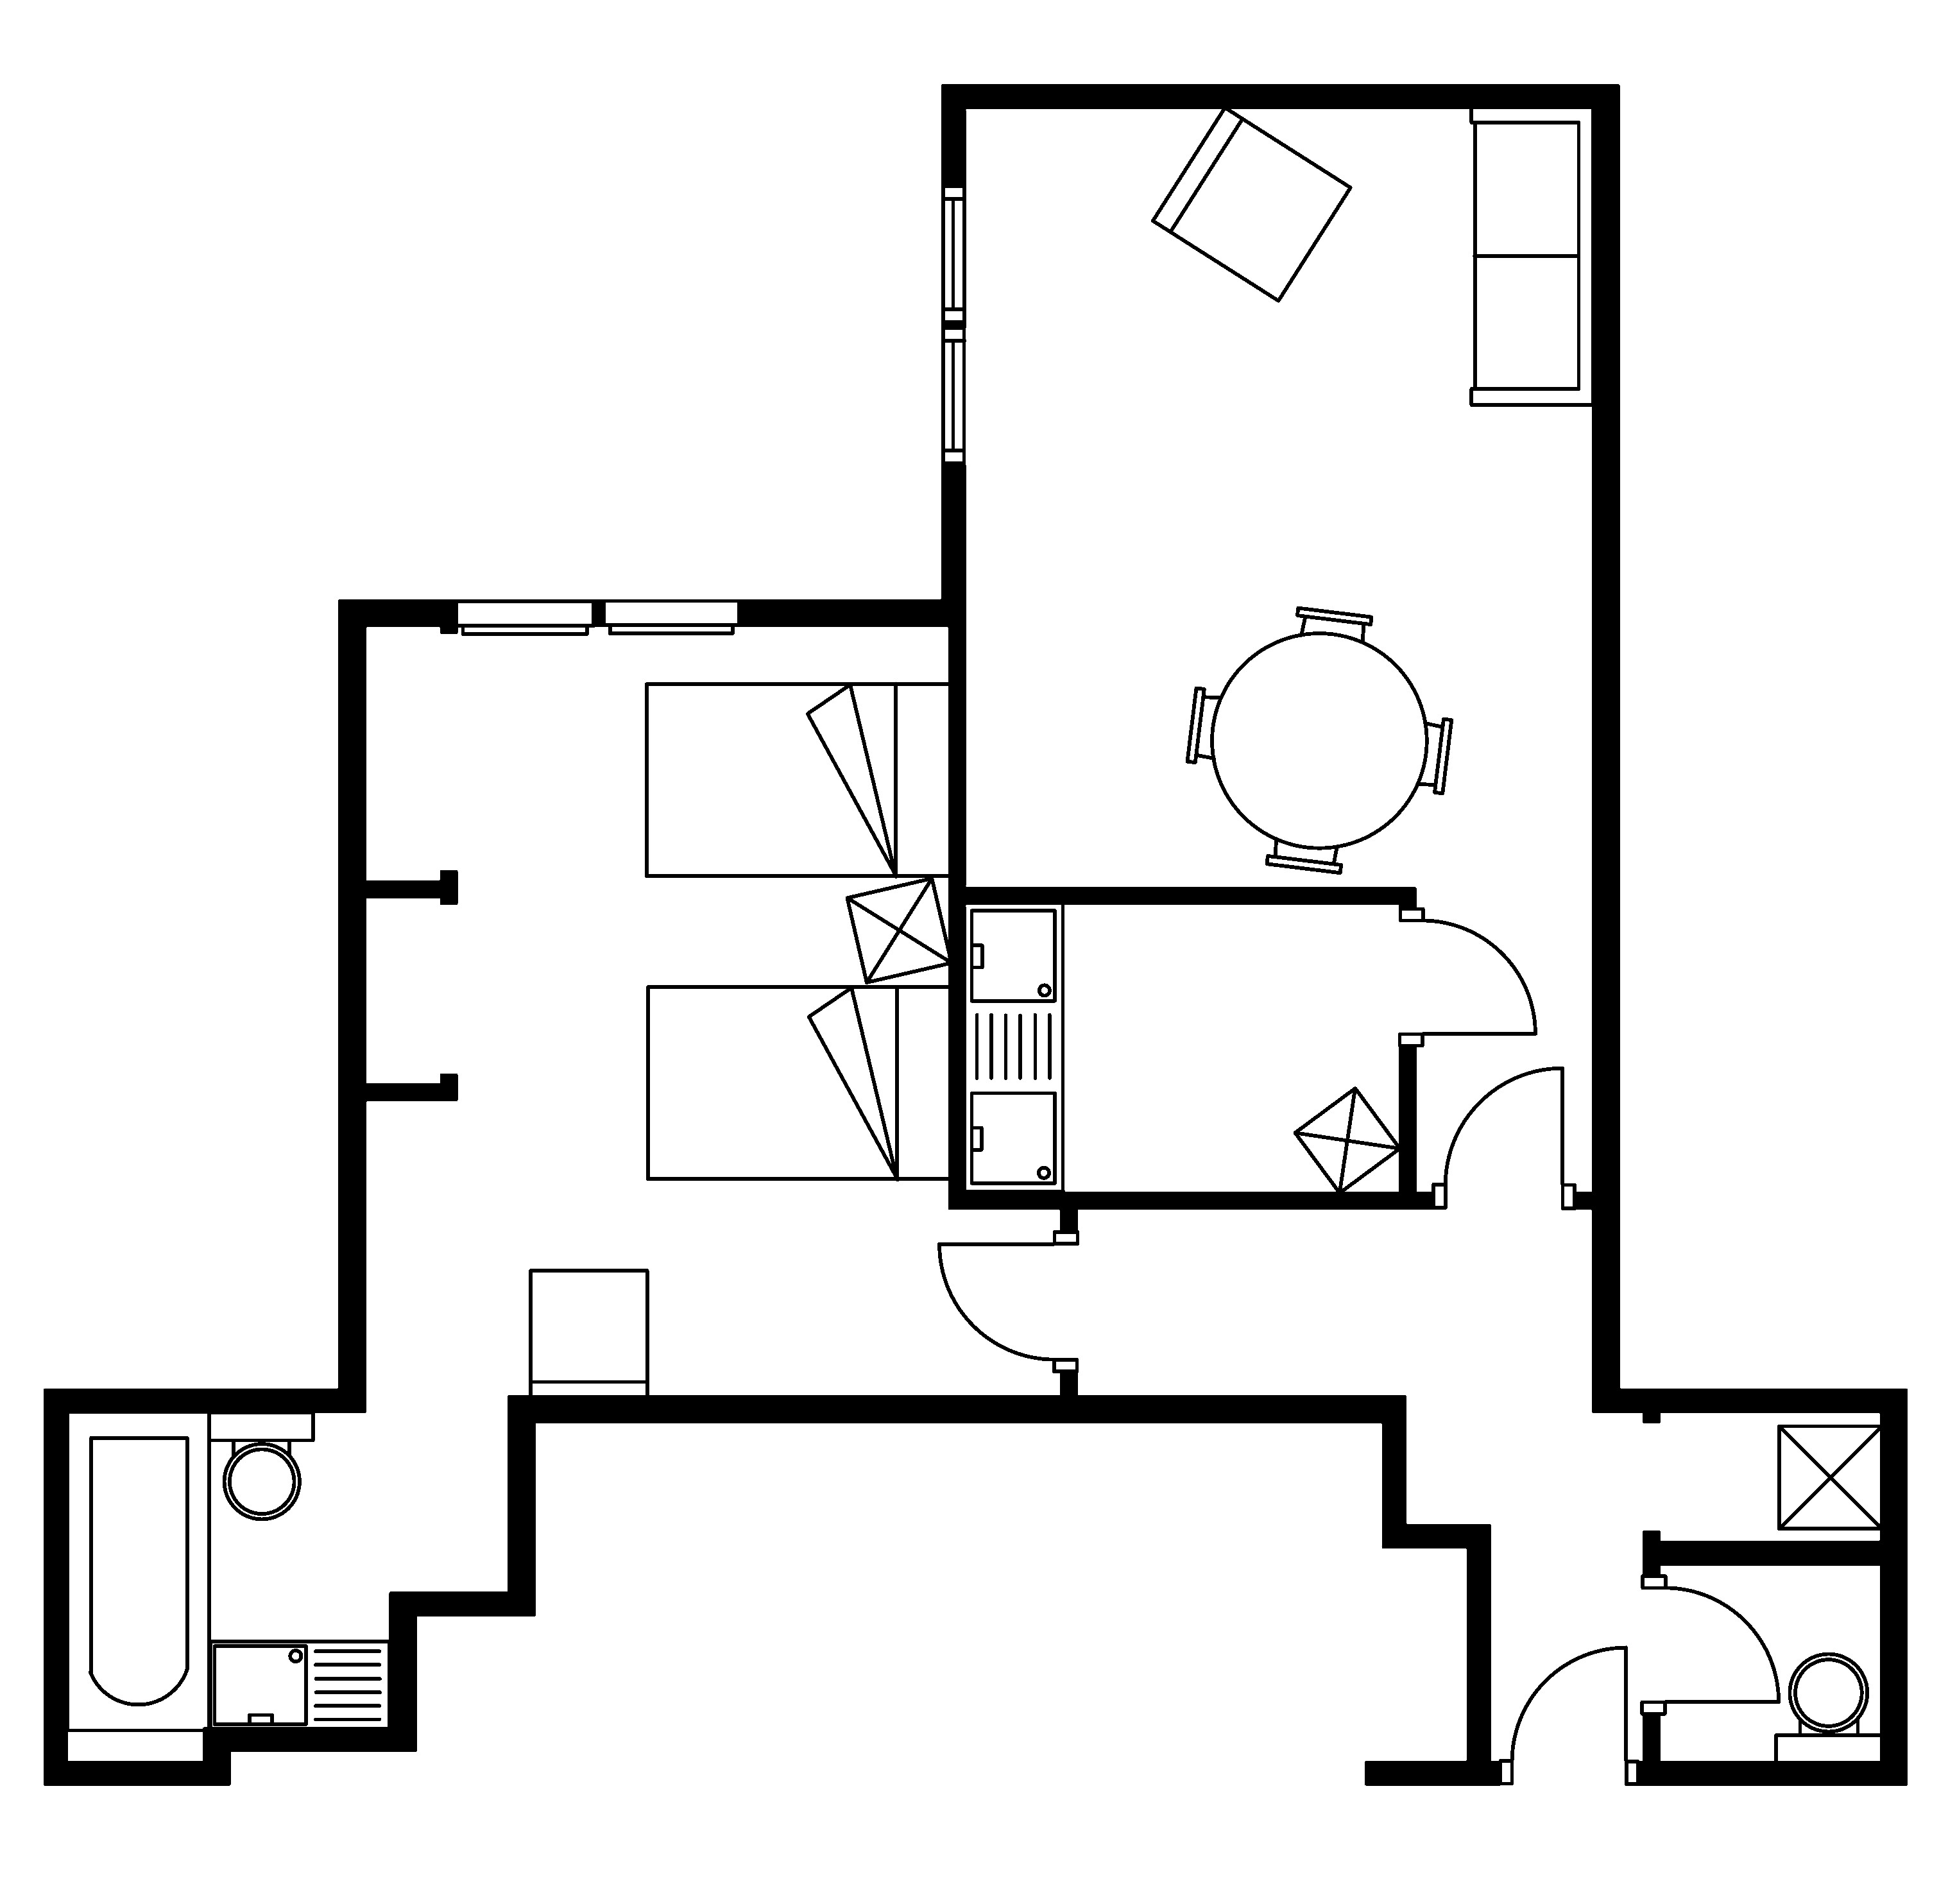bed: (644, 680, 952, 879), (645, 983, 954, 1182)
coffee_table: (1292, 1086, 1402, 1194), (844, 875, 952, 985), (1775, 1423, 1883, 1531)
large_sink: (1774, 1653, 1885, 1766), (206, 1411, 316, 1520)
large_sofa: (1468, 105, 1596, 406)
round_table: (1184, 605, 1453, 875)
sink: (208, 1639, 391, 1731)
small_sofa: (1149, 105, 1352, 302), (527, 1268, 649, 1402)
tub: (65, 1409, 211, 1733)
twin_sink: (961, 900, 1066, 1194)
